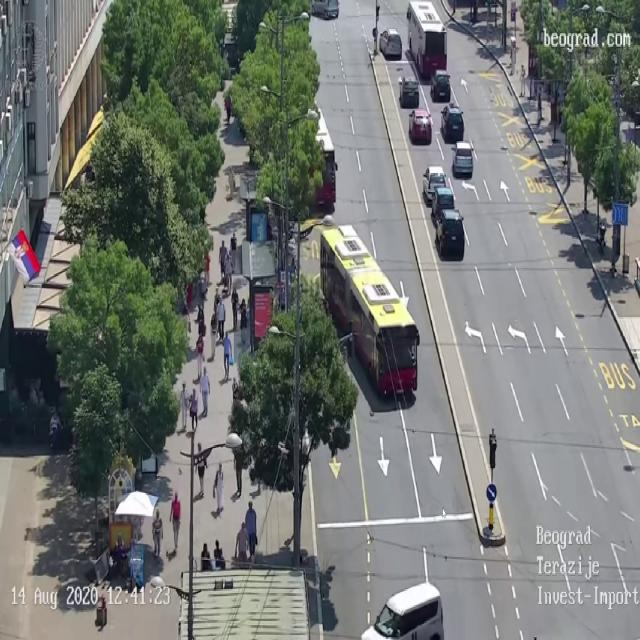bus: (287, 215, 420, 398), (296, 109, 336, 212), (406, 0, 447, 79)
car: (361, 582, 444, 640), (435, 207, 465, 254), (422, 165, 446, 197), (379, 28, 402, 60), (456, 138, 473, 176), (409, 110, 431, 139), (444, 104, 462, 139), (434, 186, 456, 213), (399, 75, 416, 106), (431, 75, 450, 99), (312, 2, 338, 17)
